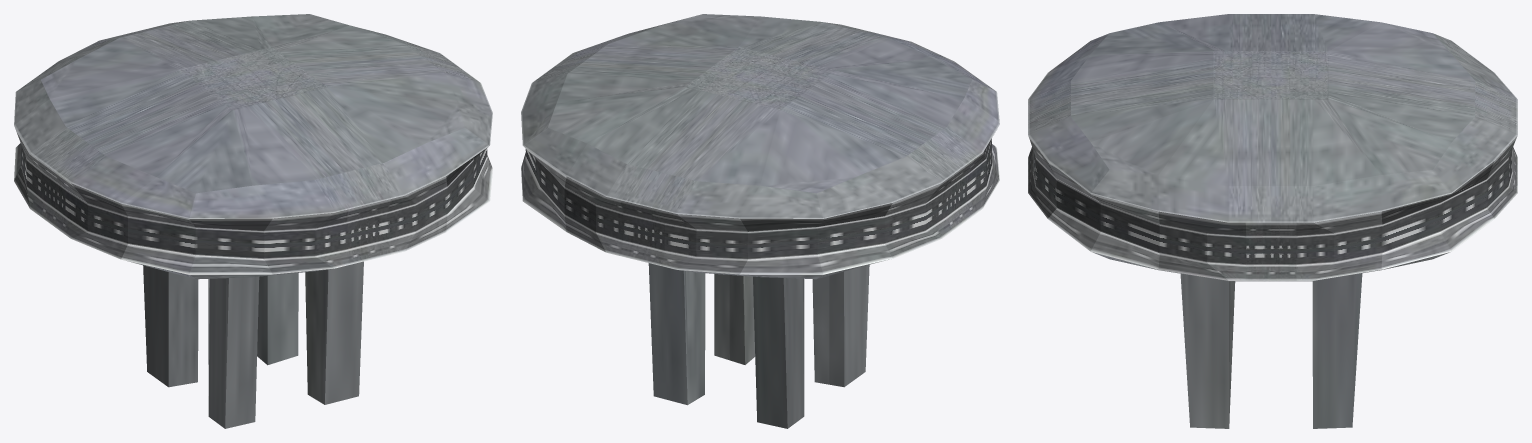
The model's file is tipoca.glb.
3 views of the same model, side by side, from view 1: azimuth 30°, elevation 25°; view 2: azimuth 150°, elevation 25°; view 3: azimuth 270°, elevation 25° (orthographic). The views are drawn at different scales.
Visible parts, largest first — view 1: Object_4; view 2: Object_4; view 3: Object_4.
Boxes of the visible parts, x1=… form: Object_4: x1=14, y1=14, x2=492, y2=428; Object_4: x1=521, y1=14, x2=999, y2=428; Object_4: x1=1028, y1=14, x2=1517, y2=428.
Size of the model in its own units: 40.01 by 28.88 by 39.75.
1 material, 1 textured.
